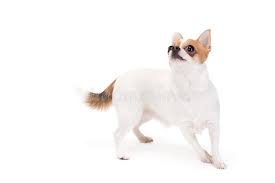chihuahua: (73, 28, 227, 169)
